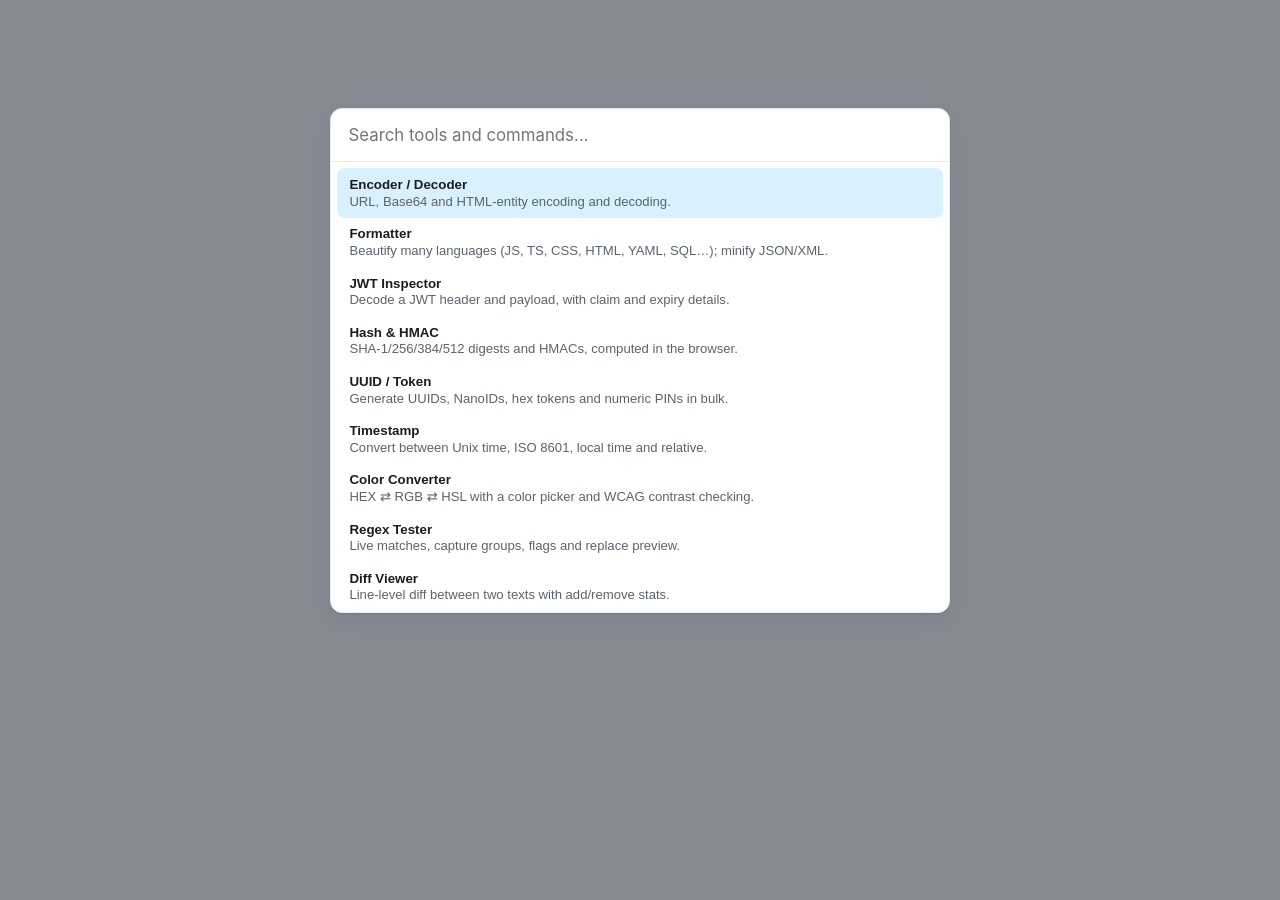
Test case: Spotlight › filters results by fuzzy query
The width and height of the screenshot is (1280, 900).
Type "form" into the field with placeholder "Search tools and commands…".
click(640, 136); type("form")  # box [331,109,949,162]
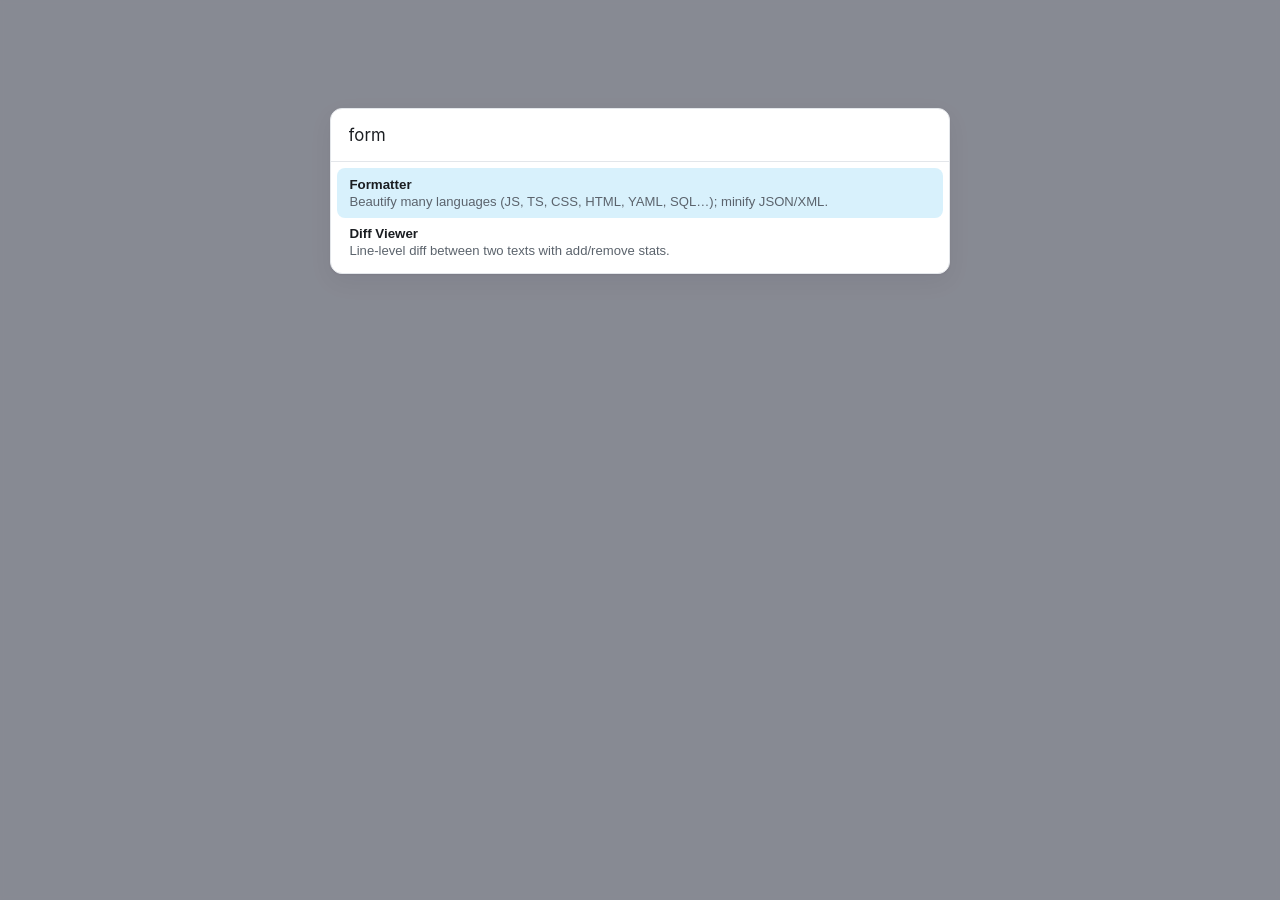
Expected: the text "Formatter" is shown, [349,177,412,192]
Expected: the button "Encoder / Decoder" is gone
